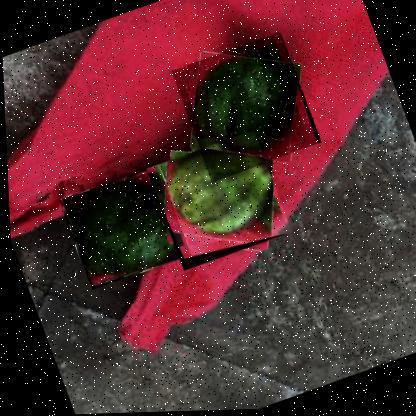guava: (168, 33, 322, 184), (142, 130, 291, 274), (55, 166, 190, 292)
